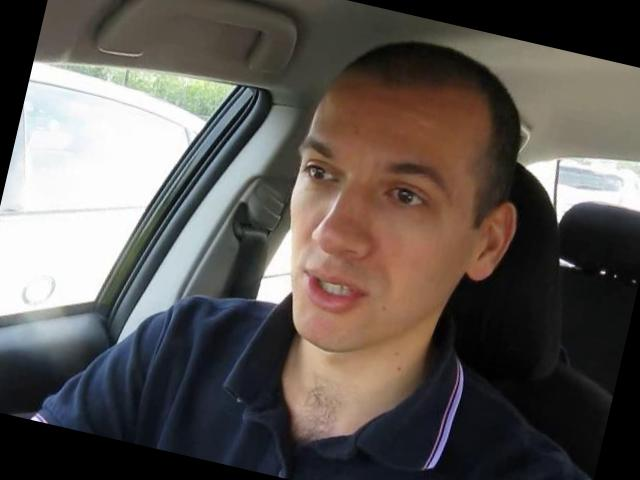eye_open: (378, 172, 438, 219), (298, 156, 339, 190)
face: (253, 114, 475, 374)
mouth_open: (284, 253, 382, 324)
